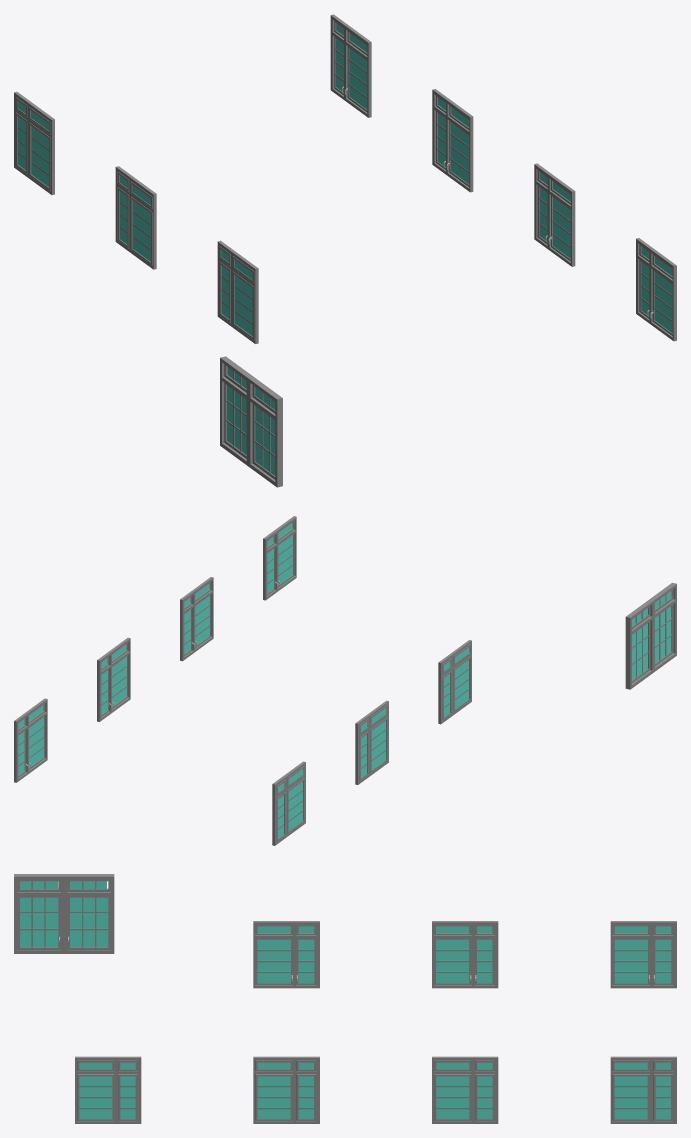
The model's file is window.fbx.
3 views of the same model, one above another, from view 1: azimuth 30°, elevation 25°; view 2: azimuth 150°, elevation 25°; view 3: azimuth 270°, elevation 25° (orthographic). The views are drawn at different scales.
Parts seen in each view (by area): view 1: windowmainframes.010, windowmainframes.003, windowmainframes.004, windowmainframes.013, windowmainframes.050, windowmainframes.005, windowmainframes.006, windowmainframes.019, windows.012, windows.015; view 2: windowmainframes.013, windowmainframes.050, windowmainframes.004, windowmainframes.003, windowmainframes.005, windowmainframes.006, windowmainframes.010, windowmainframes.019, windows.015, windows.012; view 3: windowmainframes.013, windowmainframes.004, windowmainframes.050, windowmainframes.003, windowmainframes.005, windowmainframes.006, windowmainframes.010, windows.012, windows.015, windowmainframes.019, windowmainframes.045, windowmainframes.025.
Boxes of the visible parts, bbox=[...] form: windowmainframes.010: bbox=[115, 166, 156, 269]; windowmainframes.003: bbox=[432, 89, 473, 192]; windowmainframes.004: bbox=[534, 163, 575, 266]; windowmainframes.013: bbox=[217, 240, 258, 343]; windowmainframes.050: bbox=[330, 14, 371, 117]; windowmainframes.005: bbox=[636, 238, 676, 341]; windowmainframes.006: bbox=[14, 91, 54, 194]; windowmainframes.019: bbox=[220, 356, 282, 487]; windows.012: bbox=[252, 403, 275, 479]; windows.015: bbox=[224, 383, 246, 458]; windowmainframes.013: bbox=[438, 640, 471, 724]; windowmainframes.050: bbox=[14, 698, 47, 782]; windowmainframes.004: bbox=[180, 577, 213, 661]; windowmainframes.003: bbox=[97, 637, 130, 721]; windowmainframes.005: bbox=[263, 516, 296, 600]; windowmainframes.006: bbox=[272, 761, 305, 845]; windowmainframes.010: bbox=[355, 700, 388, 784]; windowmainframes.019: bbox=[625, 582, 676, 689]; windows.015: bbox=[632, 621, 650, 683]; windows.012: bbox=[655, 604, 673, 666]; windowmainframes.013: bbox=[253, 921, 319, 988]; windowmainframes.004: bbox=[253, 1056, 319, 1123]; windowmainframes.050: bbox=[610, 1056, 676, 1123]; windowmainframes.003: bbox=[432, 1056, 498, 1123]; windowmainframes.005: bbox=[75, 1056, 141, 1123]; windowmainframes.006: bbox=[610, 921, 676, 988]; windowmainframes.010: bbox=[432, 921, 498, 988]; windows.012: bbox=[17, 895, 60, 949]; windows.015: bbox=[67, 895, 110, 949]; windowmainframes.019: bbox=[14, 874, 114, 953]; windowmainframes.045: bbox=[17, 879, 60, 891]; windowmainframes.025: bbox=[67, 879, 110, 891].
Bounding box in the file's own units: 987 × 196 × 1486.
